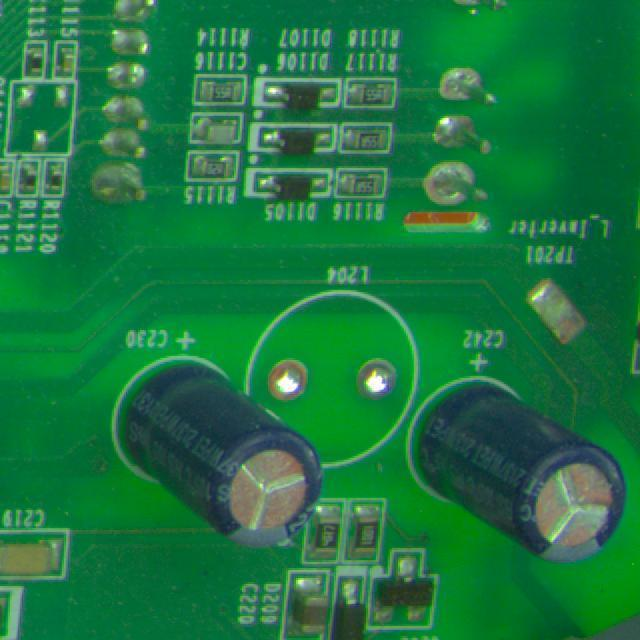Insufficient solder: (418, 158, 472, 232), (357, 345, 397, 405), (276, 360, 322, 403)
